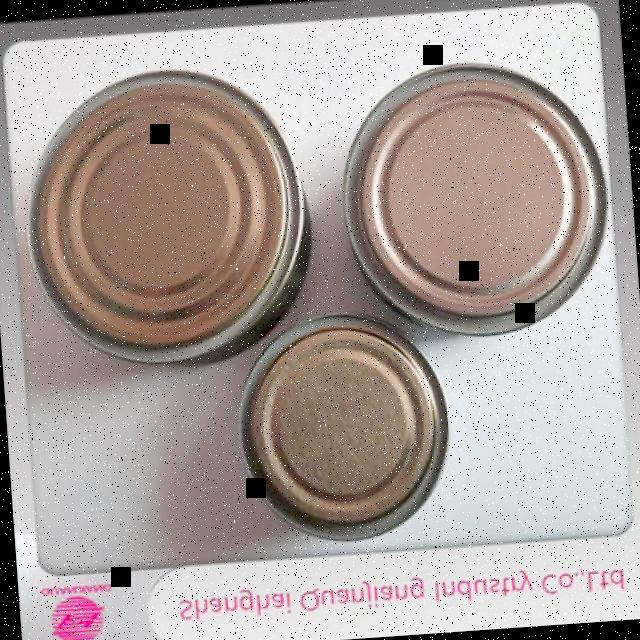can: (17, 58, 318, 378), (331, 50, 613, 352), (227, 308, 458, 552)
